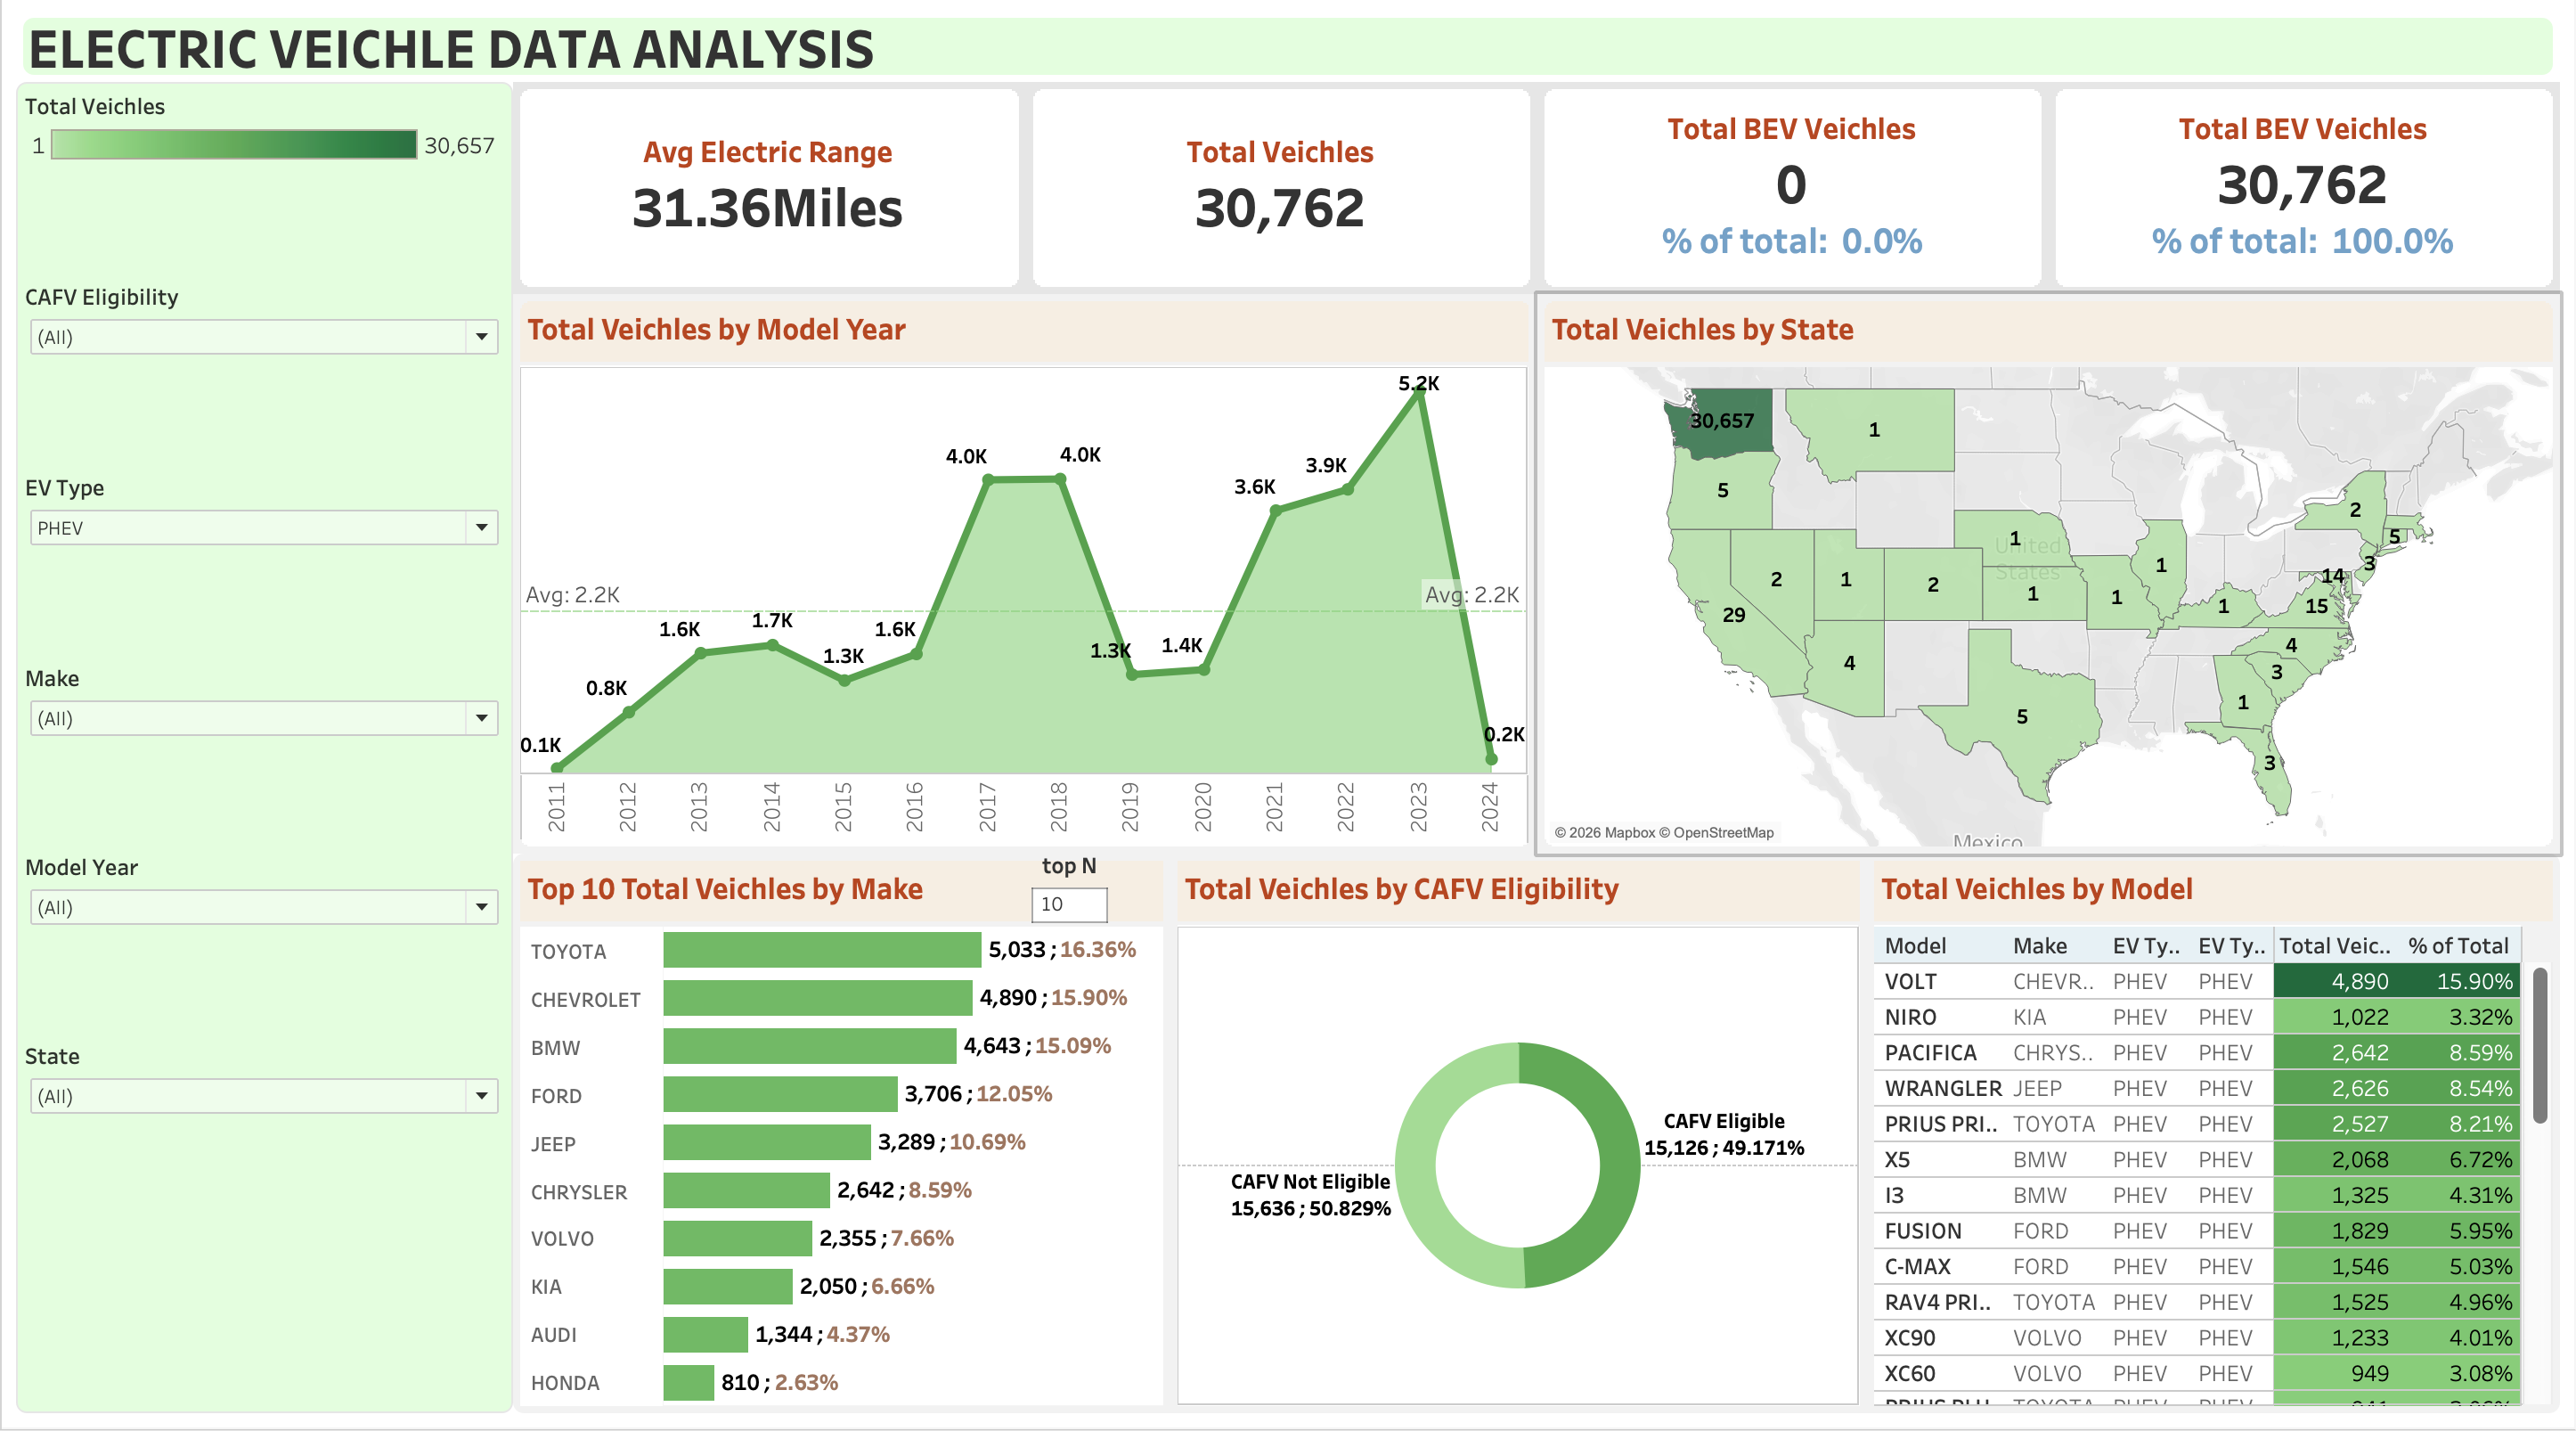

The dashboard page shown, as its layout file describes it:
{"tool":"tableau","page":{"name":"Dashboard 1","canvas":[1000,1000],"units":"permille","ordinal":0},"visuals":[{"type":"title","box":[6.4,10,987.3,49.8]},{"type":"worksheet","title":"Avg Electric Rangee","mark":"Automatic","box":[199.4,59.8,198.6,148.2]},{"type":"worksheet","title":"Total Veichles","mark":"Automatic","box":[397.9,59.8,198.6,148.2]},{"type":"worksheet","title":"Total BEV Veichles ","mark":"Automatic","box":[596.5,59.8,198.6,148.2]},{"type":"worksheet","title":"Total PHEV Veichles","mark":"Automatic","box":[795.1,59.8,198.6,148.2]},{"type":"legend","title":"Total Veichles by State","param":"[federated.0wk6oo007bi22h10v0lkz0j0n25e].[usr:Calculation_2485186874601472:qk]","box":[7.2,61,191.4,133.2]},{"type":"filter","title":"Total Veichles by Model Year","param":"[federated.0wk6oo007bi22h10v0lkz0j0n25e].[none:Clean Alternative Fuel Vehicle (C","box":[7.2,194.3,191.4,133.2]},{"type":"worksheet","title":"Total Veichles by Model Year","mark":"Area","rows":["Calculation_2485186874601472","Calculation_2485186874601472"],"cols":["Model Year"],"box":[199.3,208,397.2,391]},{"type":"worksheet","title":"Total Veichles by State","mark":"Multipolygon","box":[596.5,208,397.2,391]},{"type":"filter","title":"Total Veichles by Model Year","param":"[federated.0wk6oo007bi22h10v0lkz0j0n25e].[none:Electric Vehicle Type:nk]","box":[7.2,327.5,191.4,133.2]},{"type":"filter","title":"Total Veichles by Model Year","param":"[federated.0wk6oo007bi22h10v0lkz0j0n25e].[none:Make:nk]","box":[7.2,460.8,191.4,132]},{"type":"filter","title":"Total Veichles by Model Year","param":"[federated.0wk6oo007bi22h10v0lkz0j0n25e].[none:Model Year:ok]","box":[7.2,592.8,191.4,132]},{"type":"parameter","param":"[Parameters].[Parameter 2485187189547017]","box":[397.9,596.5,34.1,59.8]},{"type":"worksheet","title":"Top 10 Total Veichles by Make","mark":"Automatic","rows":["Make"],"cols":["Calculation_2485186874601472"],"box":[199.3,599,255,391]},{"type":"worksheet","title":"Total Veichles by CAFV Eligibility","mark":"Pie","rows":["Calculation_2485187195359243","Calculation_2485187195359243"],"box":[454.3,599,230.4,391]},{"type":"worksheet","title":"Total Veichles by Model","mark":"Square","rows":["Model","Make","Electric Vehicle Type","Electric Vehicle Type"],"box":[684.7,599,309,391]},{"type":"filter","title":"Total Veichles by Model Year","param":"[federated.0wk6oo007bi22h10v0lkz0j0n25e].[none:State:nk]","box":[7.2,724.8,191.4,132]},{"type":"blank","box":[7.2,856.8,191.4,132]}]}

Visuals, with their boxes on the dashboard's canvas, which has no fixed pixel size, in thousandths of its width and height (x1, y1, x2, y2). These are canvas units, not pixel positions in the 2576x1431 screenshot, which may show the page scaled, cropped or inside an application window:
title: {"x1": 6, "y1": 10, "x2": 994, "y2": 60}
"Avg Electric Rangee" worksheet: {"x1": 199, "y1": 60, "x2": 398, "y2": 208}
"Total Veichles" worksheet: {"x1": 398, "y1": 60, "x2": 596, "y2": 208}
"Total BEV Veichles " worksheet: {"x1": 596, "y1": 60, "x2": 795, "y2": 208}
"Total PHEV Veichles" worksheet: {"x1": 795, "y1": 60, "x2": 994, "y2": 208}
"Total Veichles by State" legend: {"x1": 7, "y1": 61, "x2": 199, "y2": 194}
"Total Veichles by Model Year" filter: {"x1": 7, "y1": 194, "x2": 199, "y2": 328}
"Total Veichles by Model Year" worksheet (Area marks): {"x1": 199, "y1": 208, "x2": 596, "y2": 599}
"Total Veichles by State" worksheet (Multipolygon marks): {"x1": 596, "y1": 208, "x2": 994, "y2": 599}
"Total Veichles by Model Year" filter: {"x1": 7, "y1": 328, "x2": 199, "y2": 461}
"Total Veichles by Model Year" filter: {"x1": 7, "y1": 461, "x2": 199, "y2": 593}
"Total Veichles by Model Year" filter: {"x1": 7, "y1": 593, "x2": 199, "y2": 725}
parameter: {"x1": 398, "y1": 596, "x2": 432, "y2": 656}
"Top 10 Total Veichles by Make" worksheet: {"x1": 199, "y1": 599, "x2": 454, "y2": 990}
"Total Veichles by CAFV Eligibility" worksheet (Pie marks): {"x1": 454, "y1": 599, "x2": 685, "y2": 990}
"Total Veichles by Model" worksheet (Square marks): {"x1": 685, "y1": 599, "x2": 994, "y2": 990}
"Total Veichles by Model Year" filter: {"x1": 7, "y1": 725, "x2": 199, "y2": 857}
blank: {"x1": 7, "y1": 857, "x2": 199, "y2": 989}
